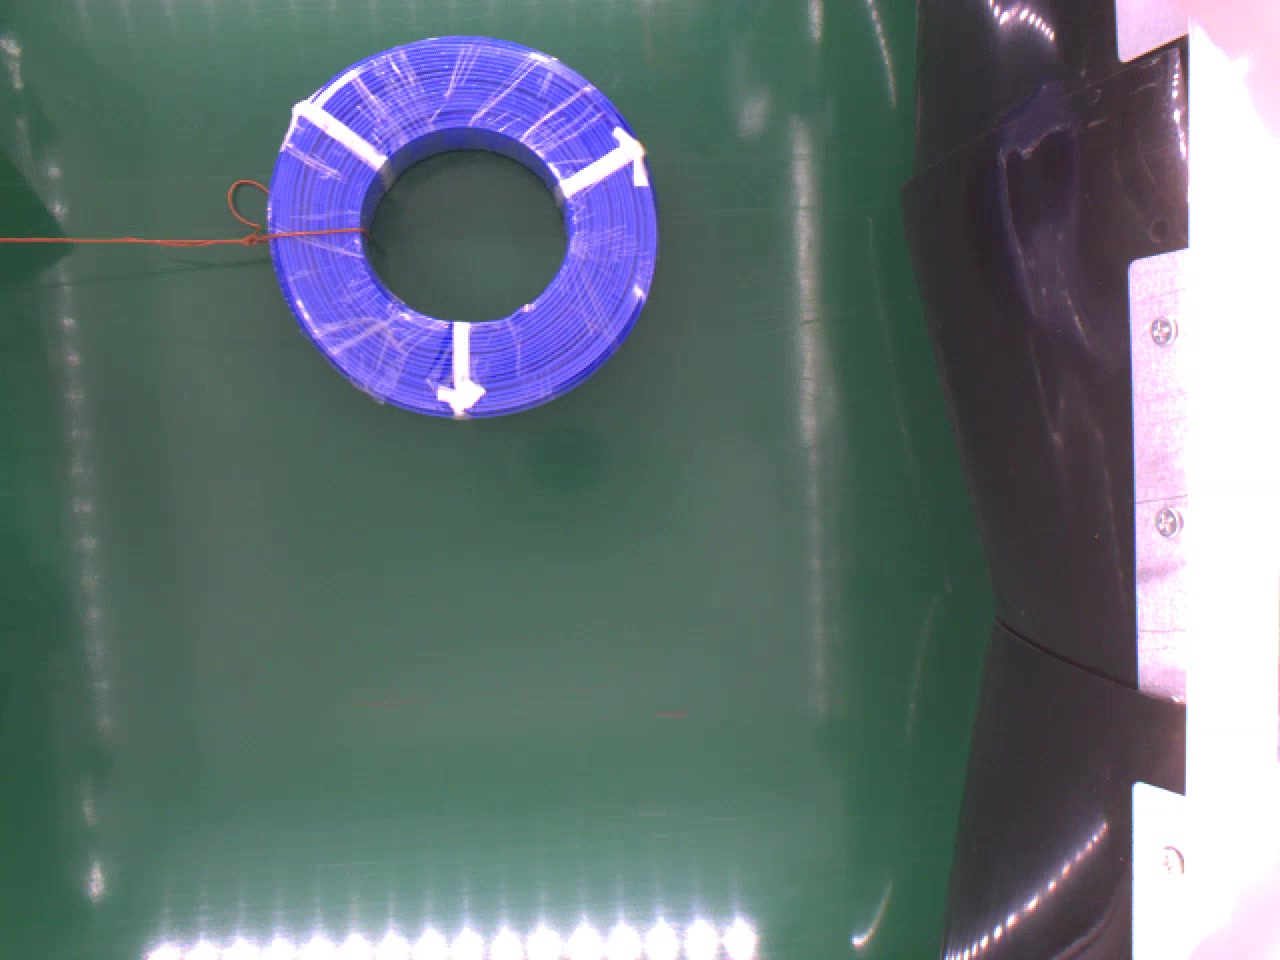blue: (266, 34, 660, 422)
